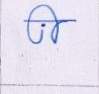i_matra: (39, 4, 62, 43)
